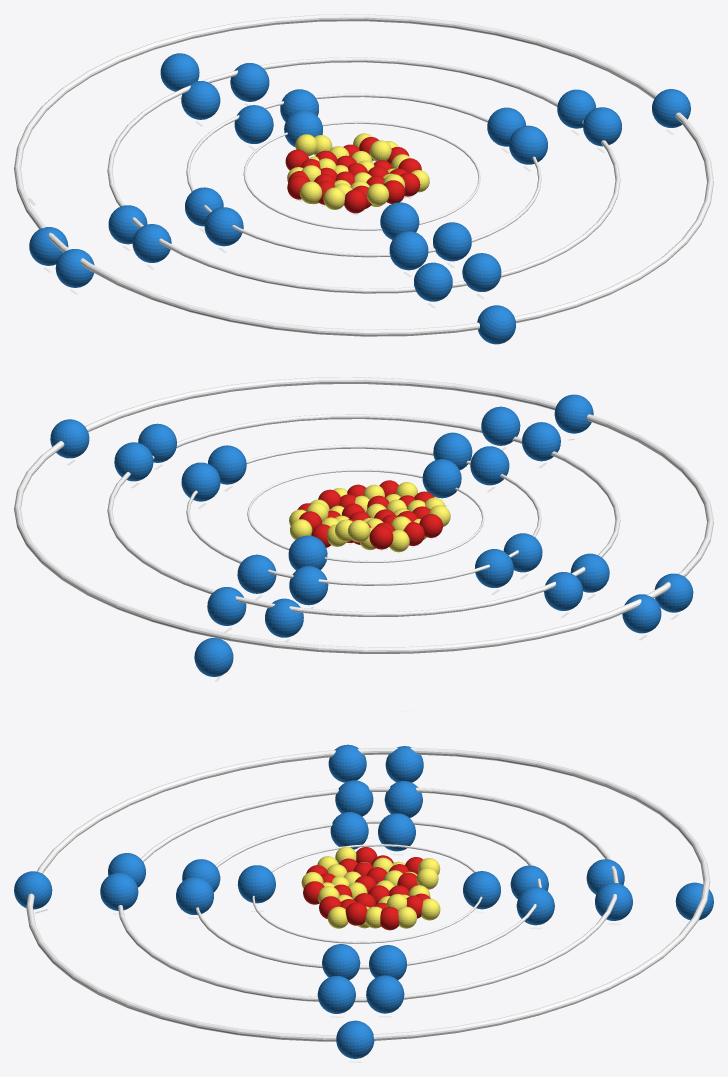
3 views of the same model, one above another, from view 1: azimuth 30°, elevation 25°; view 2: azimuth 150°, elevation 25°; view 3: azimuth 270°, elevation 25° (orthographic). The views are drawn at different scales.
Parts seen in each view (by area): view 1: Torus.004, Torus.003, Torus.002, Torus.001, g.006, g.014, g.015, g.007, g.008, g.020, g.005, g.017 (+15 smaller); view 2: Torus.004, Torus.003, Torus.002, Torus.001, g.021, g.015, g.001, g.006, g.009, g.014, g.004, g.008 (+15 smaller); view 3: Torus.004, Torus.003, Torus.002, Torus.001, g.012, g.023, g.013, g.001, g, g.015, g.007, g.002 (+15 smaller).
Boxes of the visible parts, x1,y1,x2,y2 form: Torus.004: (14, 14, 713, 336); Torus.003: (107, 57, 620, 293); Torus.002: (186, 93, 541, 257); Torus.001: (243, 121, 480, 230); g.006: (389, 231, 428, 270); g.014: (414, 262, 452, 301); g.015: (462, 253, 501, 291); g.007: (433, 222, 471, 261); g.008: (234, 105, 273, 143); g.020: (477, 305, 515, 344); g.005: (509, 125, 547, 164); g.017: (230, 63, 269, 101); Torus.004: (14, 377, 713, 653); Torus.003: (107, 414, 620, 616); Torus.002: (186, 445, 541, 585); Torus.001: (247, 469, 484, 562); g.021: (194, 638, 233, 676); g.015: (481, 406, 520, 445); g.001: (422, 459, 461, 498); g.006: (470, 446, 509, 485); g.009: (237, 554, 276, 593); g.014: (522, 422, 560, 461); g.004: (181, 462, 220, 501); g.008: (289, 566, 328, 605); Torus.004: (26, 747, 710, 1041); Torus.003: (118, 787, 618, 1002); Torus.002: (196, 820, 541, 969); Torus.001: (252, 844, 482, 943); g.012: (366, 975, 404, 1013); g.023: (336, 1020, 374, 1058); g.013: (317, 976, 355, 1013); g.001: (237, 865, 275, 903); g: (463, 871, 500, 909); g.015: (100, 872, 138, 910); g.007: (176, 877, 213, 914); g.002: (378, 813, 415, 851).
Size of the model in its own units: 8.71 by 1.01 by 8.52.
